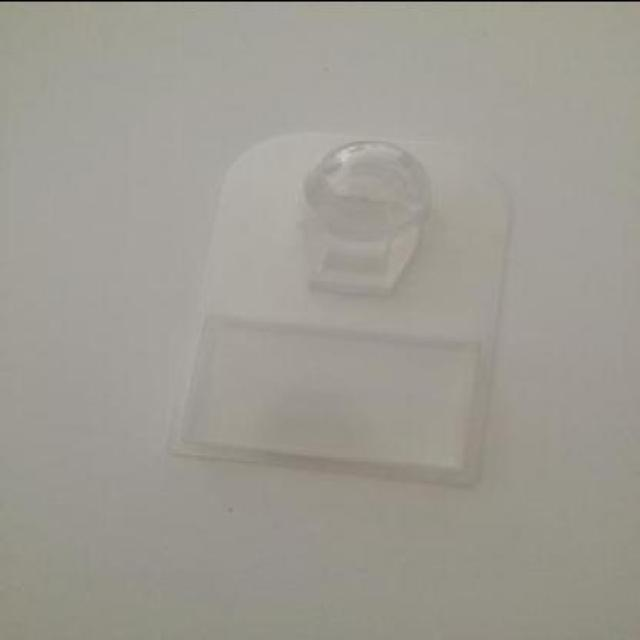PLASTIC: (169, 127, 513, 482)
